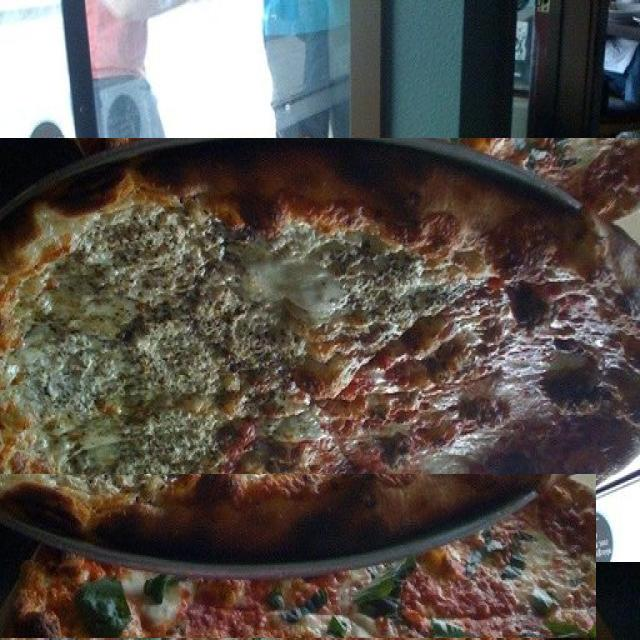basil: (180, 558, 242, 618), (466, 573, 521, 640), (0, 618, 49, 640)
pizza: (0, 138, 640, 562), (0, 474, 596, 638)
